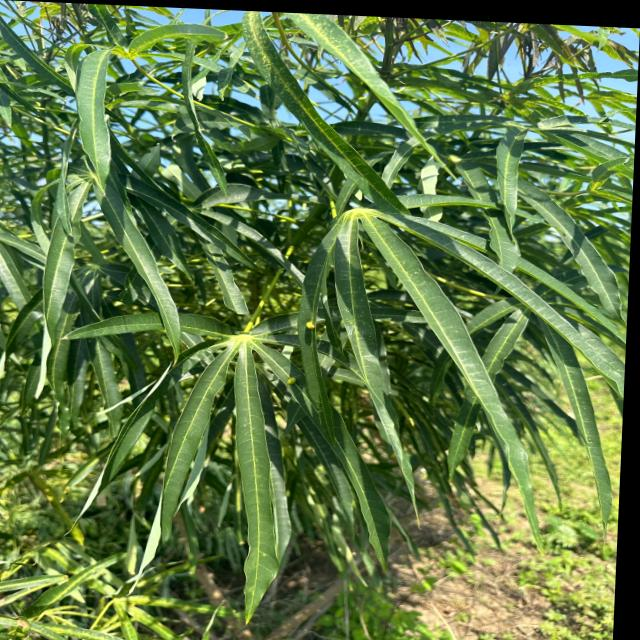Mosca: (292, 314, 322, 333), (281, 374, 302, 394)
